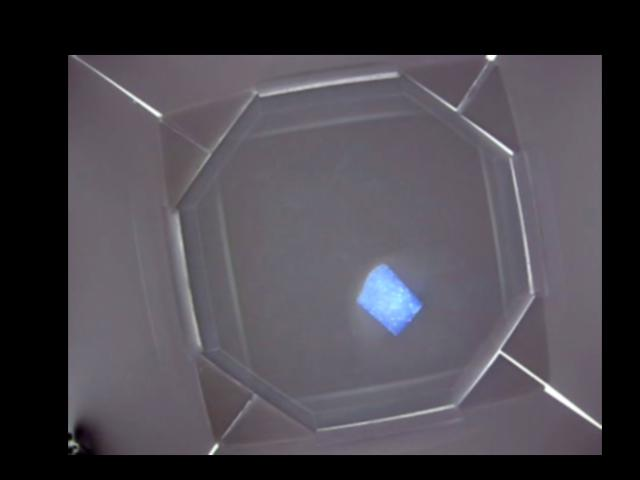Potato: (357, 263, 425, 333)
